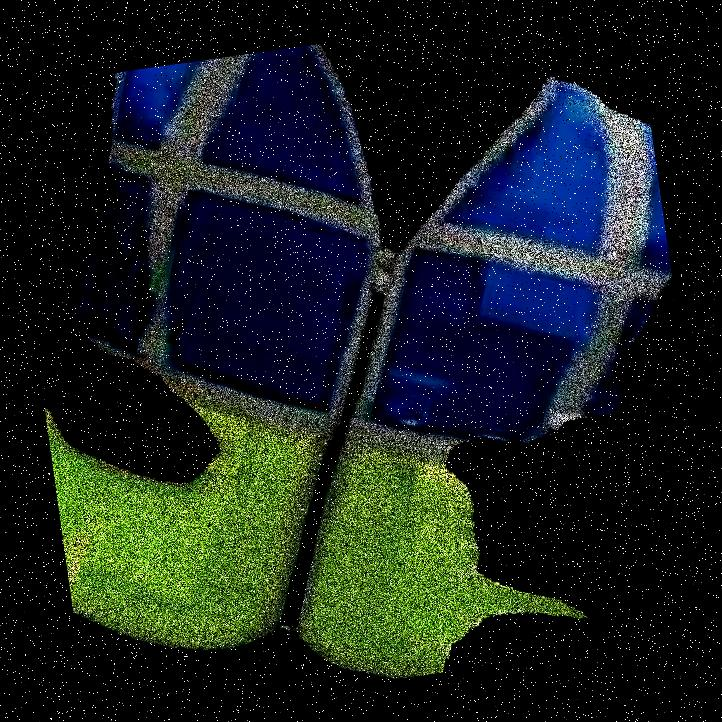Colete: (107, 0, 585, 721)
